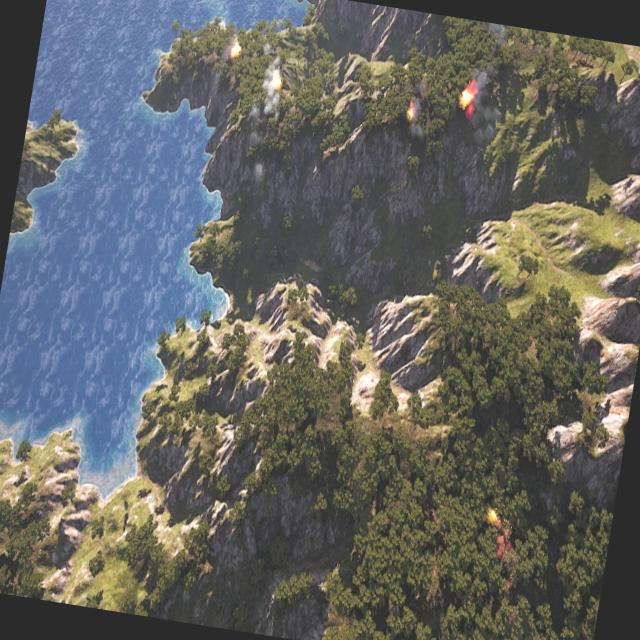fire: (482, 506, 520, 560), (458, 83, 477, 111), (486, 508, 498, 526), (407, 104, 418, 122), (274, 76, 284, 92), (229, 44, 240, 58)
smoke: (244, 44, 287, 146), (462, 61, 508, 146), (404, 82, 432, 142), (479, 22, 512, 40), (222, 40, 237, 62)
